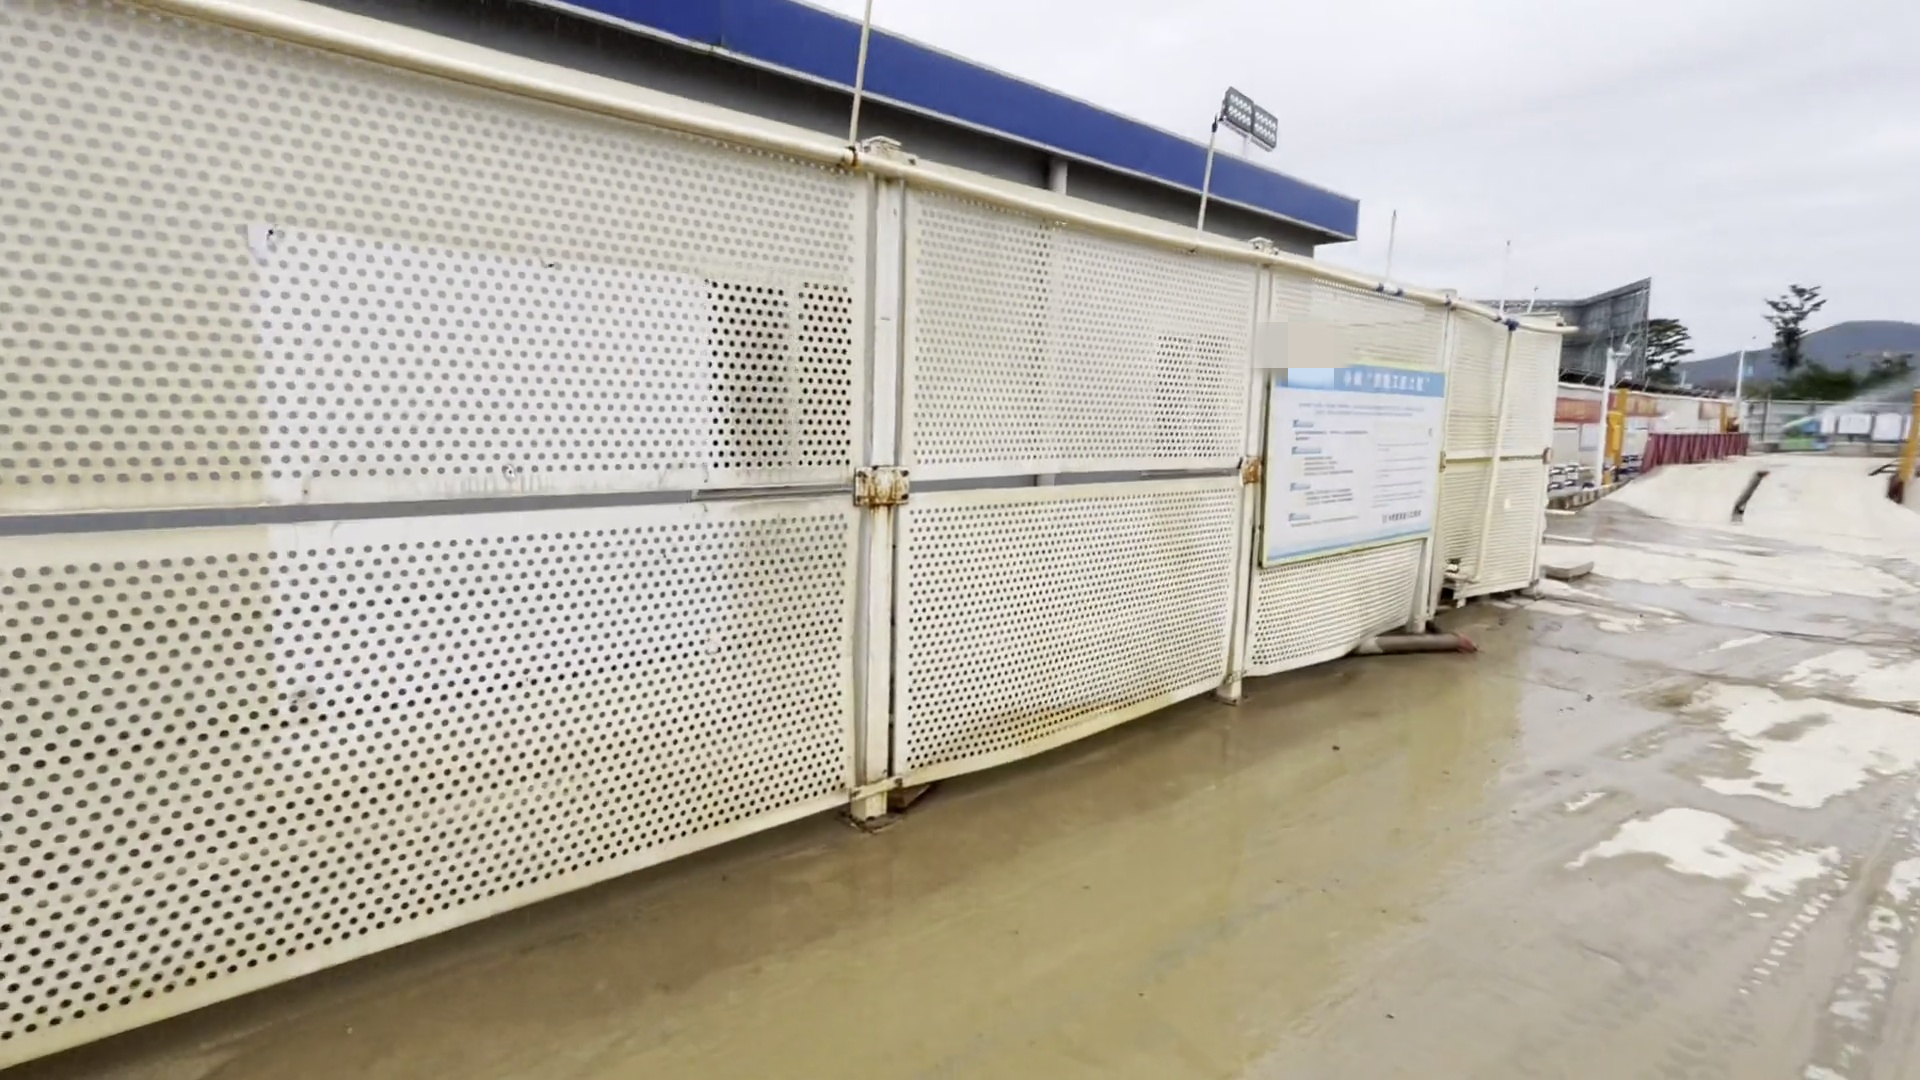slogan: (1265, 355, 1449, 564)
